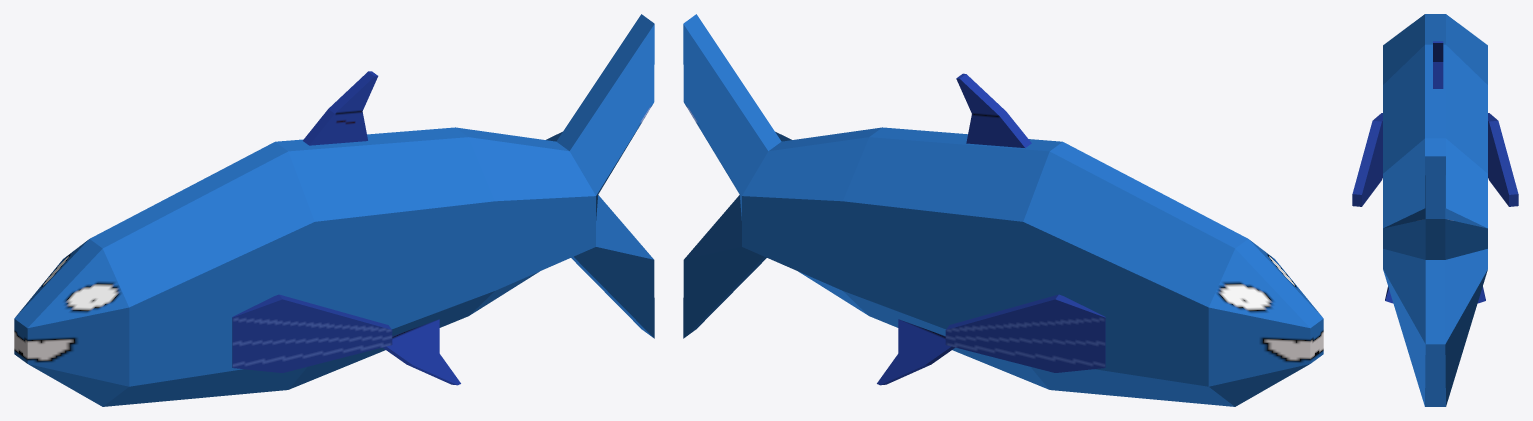
Rendered from Fish.fbx.
3 renders of one model, left to right at view 1: azimuth 30°, elevation 25°; view 2: azimuth 150°, elevation 25°; view 3: azimuth 270°, elevation 25°, orthographic. The views are drawn at different scales.
Visible parts, largest first — view 1: Body, Side Fins, TOp Fin, Bottom Fins; view 2: Body, Side Fins, TOp Fin, Bottom Fins; view 3: Body, Side Fins, TOp Fin.
Part boxes in pixels (left/top/right/bottom): Body: left=14, top=14, right=654, bottom=406; Side Fins: left=232, top=294, right=392, bottom=372; TOp Fin: left=303, top=71, right=378, bottom=145; Bottom Fins: left=383, top=319, right=460, bottom=385; Body: left=683, top=14, right=1323, bottom=406; Side Fins: left=945, top=294, right=1105, bottom=372; TOp Fin: left=956, top=73, right=1031, bottom=147; Bottom Fins: left=877, top=319, right=954, bottom=385; Body: left=1383, top=14, right=1487, bottom=406; Side Fins: left=1352, top=113, right=1518, bottom=206; TOp Fin: left=1433, top=41, right=1443, bottom=88.
Size of the model in its own units: 61.49 by 30.54 by 17.74.
